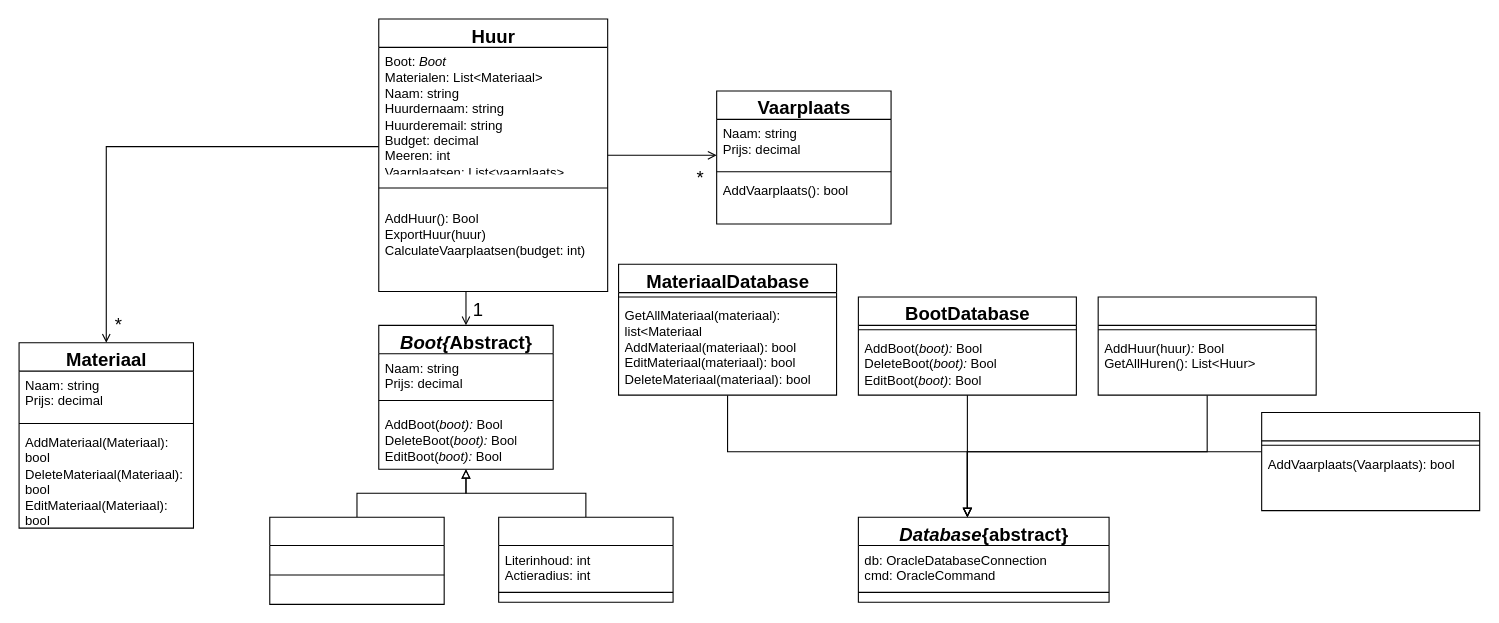
Image size: 1499x623. Some labels were removed from this diagram. The shapes that lost their labels are listed below. From the top down, each one's box as (x1, y1, x2, y2) in pixels, then its label:
(1097, 296, 1316, 395): HuurDatabase
(1261, 411, 1480, 511): VaarplaatsDatabase
(269, 516, 444, 604): Spierkrachtboot
(498, 516, 673, 602): Motorboot
